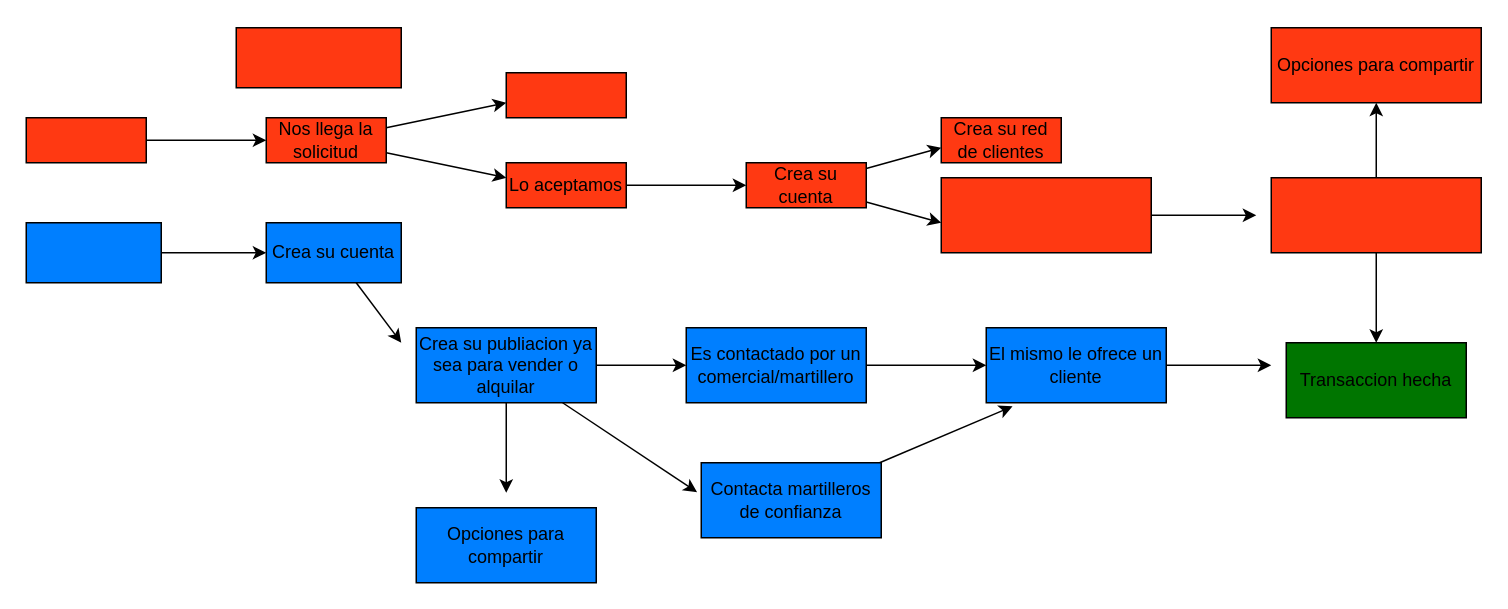
The diagram is 1508 pixels wide and 609 high, and some of its shapes have lost their labels. Each missing label, with the centre of its shape:
"Comercial/ Martillero" goes at (x=85, y=139).
"Contacta usuarios para ofrecerse como martillero" goes at (x=1045, y=214).
"No lo aceptamos" goes at (x=565, y=94).
"Ofrece a sus clientes la nueva vivienda" goes at (x=1375, y=214).
"Por donde nos llega? Mail o cuenta Admin" goes at (x=318, y=57).
"usuario/casa venta o alquiler" goes at (x=93, y=252).
